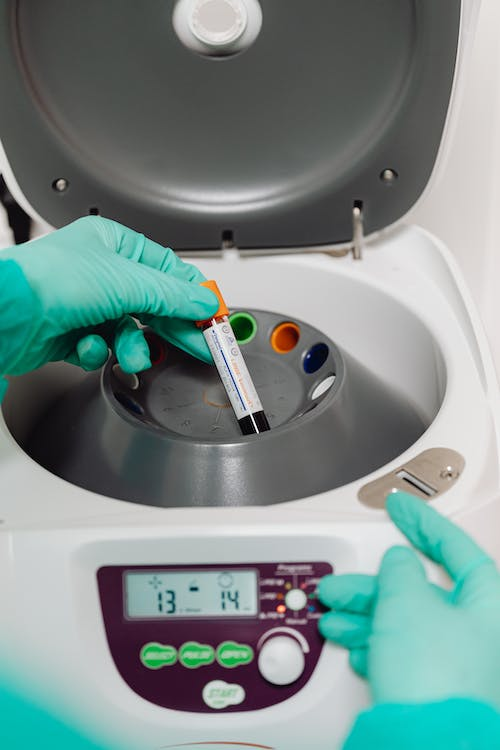blood: (199, 313, 270, 439)
